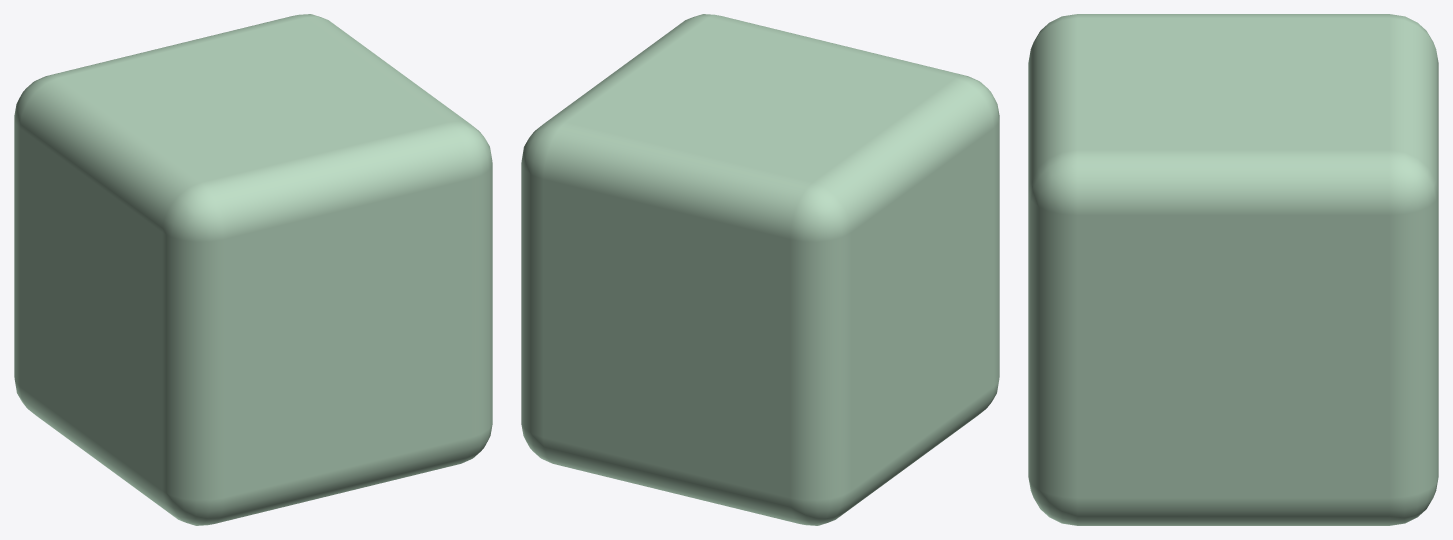
The picture shows the model from 3 angles, left to right: view 1: azimuth 30°, elevation 25°; view 2: azimuth 150°, elevation 25°; view 3: azimuth 270°, elevation 25°; orthographic projection. The views are drawn at different scales.
Visible parts, largest first — view 1: Cube; view 2: Cube; view 3: Cube.
Boxes of the visible parts, x1,y1,x2,y2 form: Cube: [14, 14, 492, 525]; Cube: [521, 14, 999, 525]; Cube: [1028, 14, 1438, 525].
Size of the model in its own units: 2 by 2 by 2.
